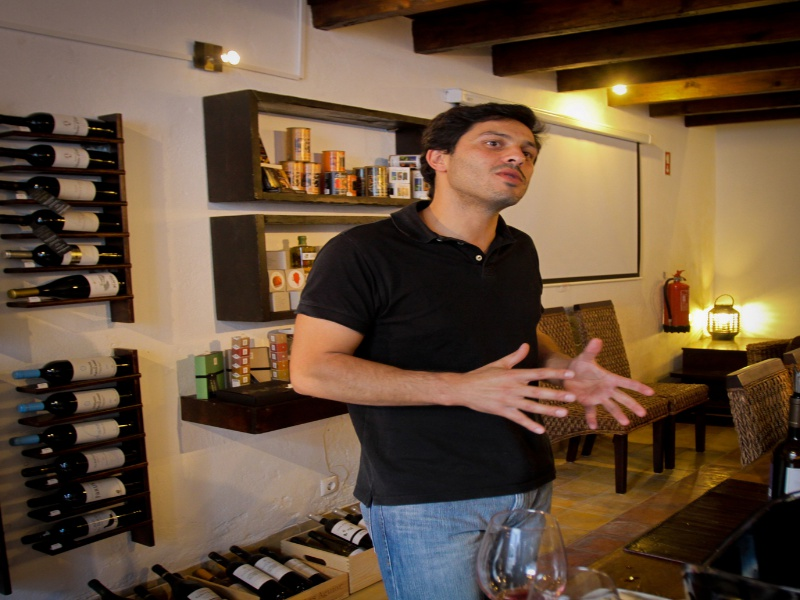wine: (3, 103, 159, 557), (71, 497, 379, 600)
